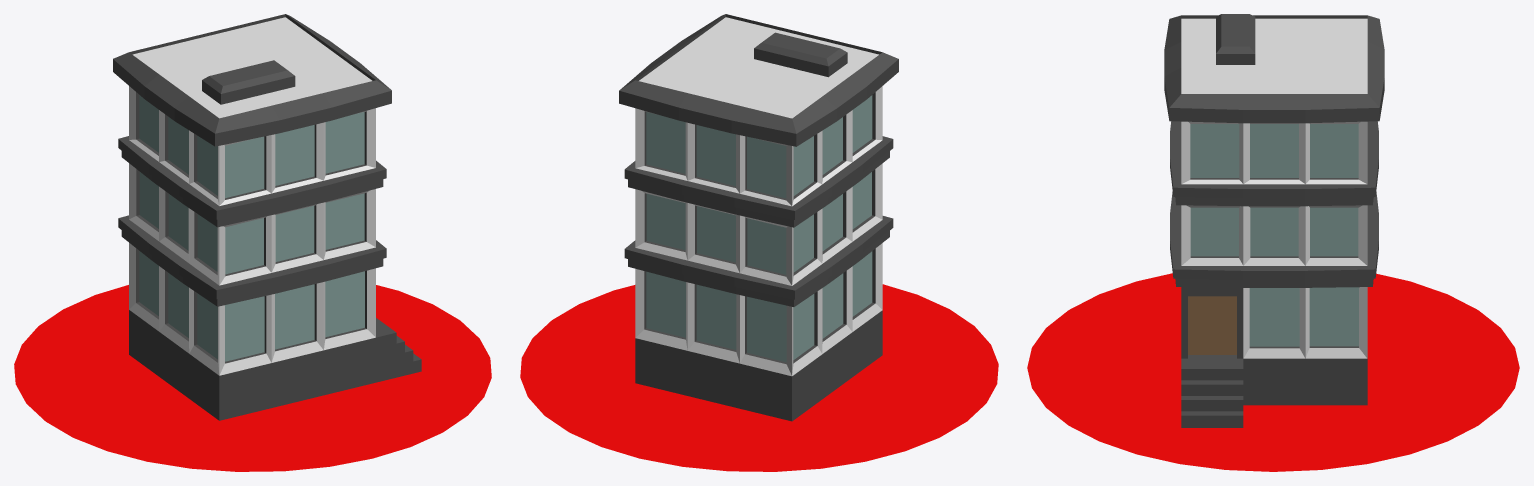
The model's file is BuildingRot1.fbx.
The picture shows the model from 3 angles, left to right: view 1: azimuth 30°, elevation 25°; view 2: azimuth 150°, elevation 25°; view 3: azimuth 270°, elevation 25°; orthographic projection. The views are drawn at different scales.
Parts seen in each view (by area): view 1: Building.001; view 2: Building.001; view 3: Building.001.
Part boxes in pixels (box(x1,y1,x2,y2)): Building.001: box(14, 14, 491, 471); Building.001: box(520, 14, 998, 471); Building.001: box(1027, 14, 1519, 471).
Size of the model in its own units: 586 by 428 by 586.
